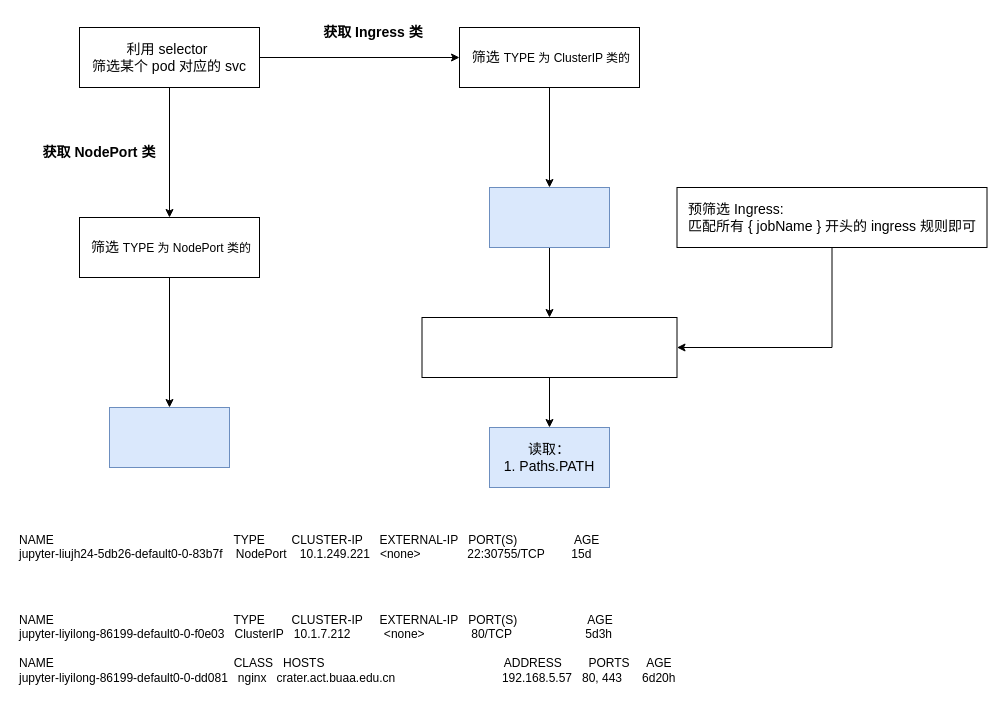
Some shapes in this 1005 by 713 pixel diagram are drawn without their labels. Here are the shapes that lost their labels. From the top down, the centre of each, then its label:
At (549,217): "读取： 1. 容器端口 2. 当前 svc 名称".
At (549,347): "在 预筛选 ingress 的结果中 查找关联目标 svc 的 Ingress".
At (169,437): "读取： 1. 容器端口 2. NodePort端口".
